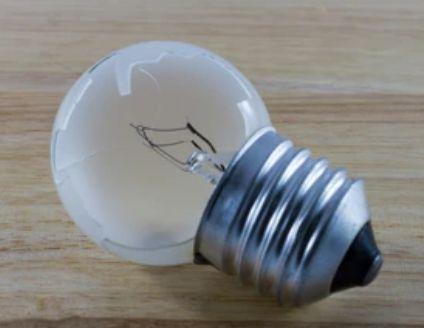light bulb: (45, 38, 385, 312)
